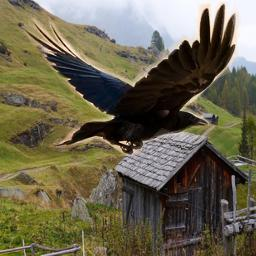Crow: (21, 2, 241, 156)
